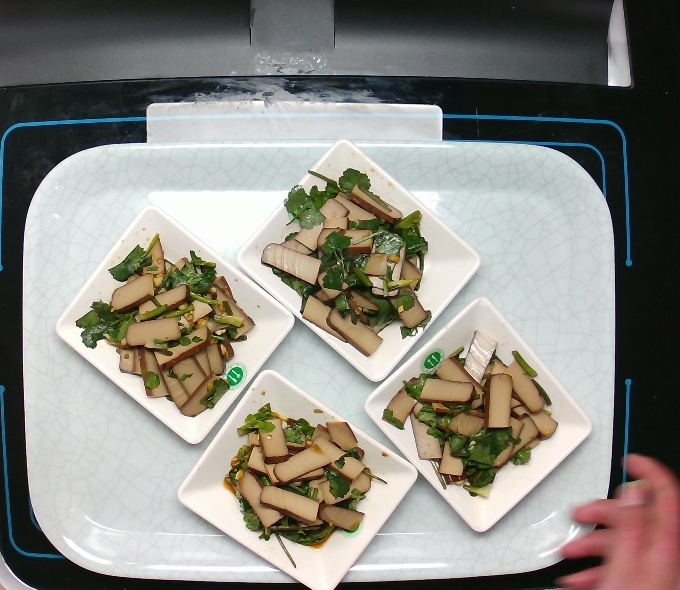wcq-JiDanGan: (261, 169, 439, 353), (389, 331, 561, 496), (89, 234, 243, 416), (227, 411, 375, 549)
